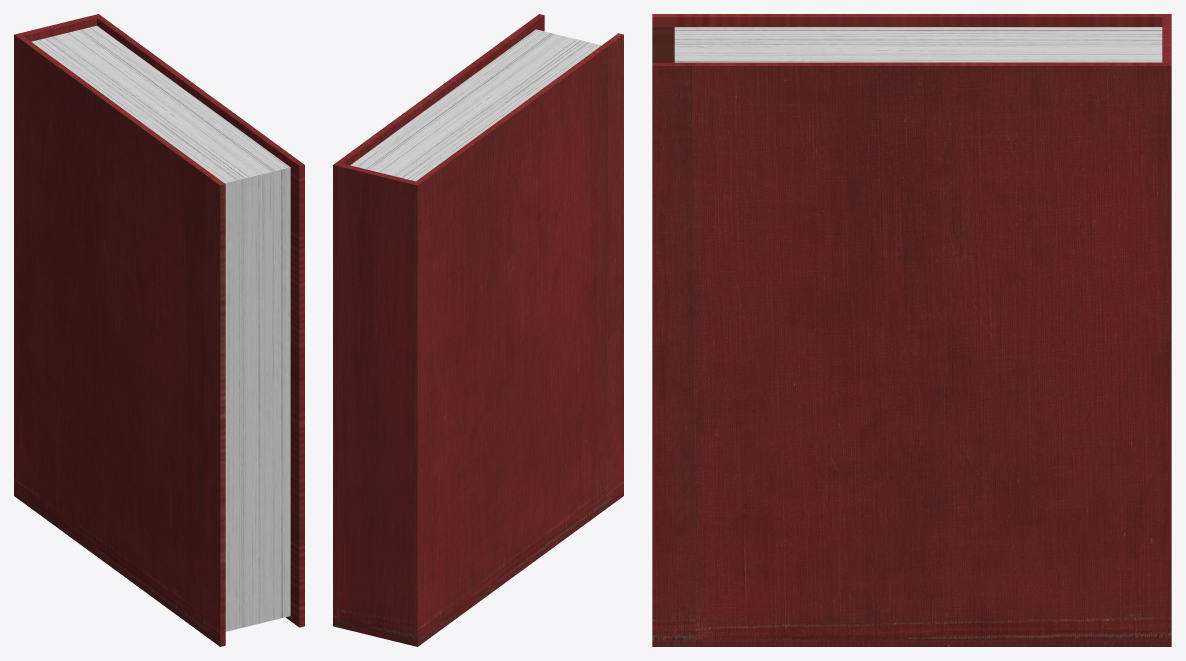
The model's file is book.dae.
3 renders of one model, left to right at view 1: azimuth 30°, elevation 25°; view 2: azimuth 150°, elevation 25°; view 3: azimuth 270°, elevation 25°, orthographic. The views are drawn at different scales.
Parts seen in each view (by area): view 1: Cube; view 2: Cube; view 3: Cube.
Boxes of the visible parts, x1,y1,x2,y2 form: Cube: (14, 14, 304, 646); Cube: (333, 14, 623, 646); Cube: (652, 14, 1171, 646).
Size of the model in its own units: 0.3946 by 1.67 by 2.06.
Materials: 2 (2 with a texture image).
